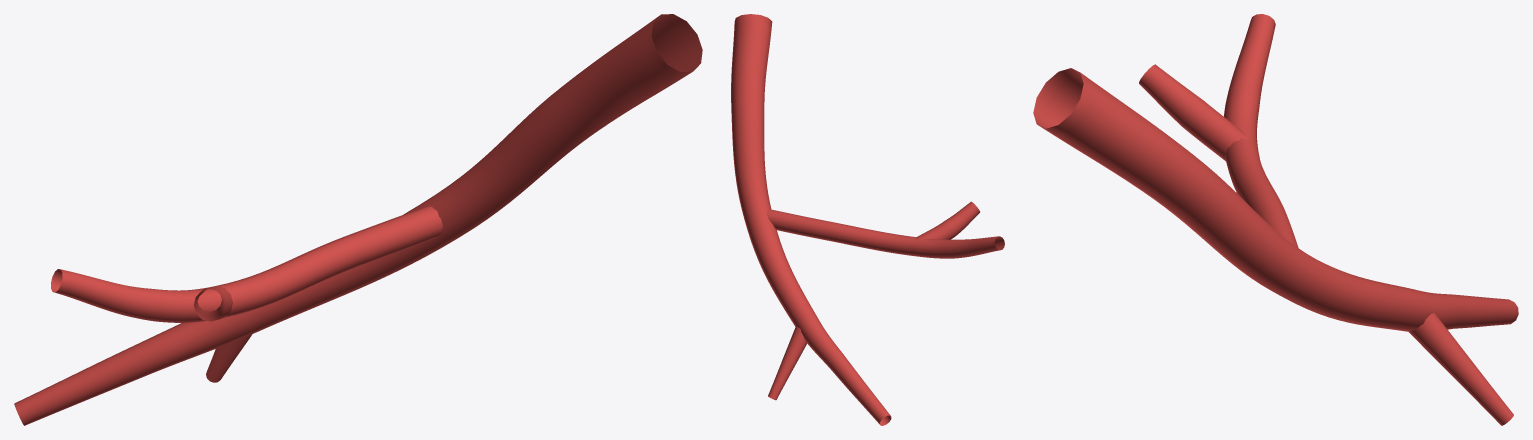
The picture shows the model from 3 angles, left to right: view 1: azimuth 30°, elevation 25°; view 2: azimuth 150°, elevation 25°; view 3: azimuth 270°, elevation 25°; orthographic projection. The views are drawn at different scales.
Visible parts, largest first — view 1: 右肺外侧段动脉; view 2: 右肺外侧段动脉; view 3: 右肺外侧段动脉.
Boxes of the visible parts, x1,y1,x2,y2 form: 右肺外侧段动脉: [14, 14, 702, 425]; 右肺外侧段动脉: [731, 14, 1004, 425]; 右肺外侧段动脉: [1033, 14, 1518, 425].
Size of the model in its own units: 0.1144 by 0.0903 by 0.0834.
